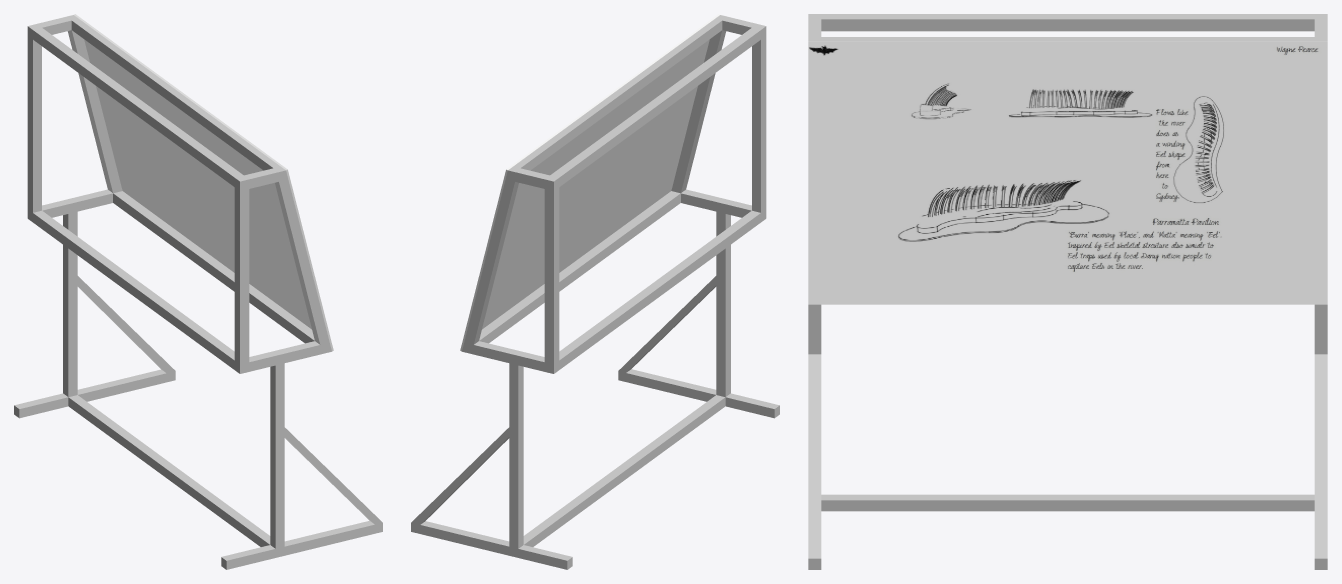
File: whiteboard_2.glb
3 views of the same model, side by side, from view 1: azimuth 30°, elevation 25°; view 2: azimuth 150°, elevation 25°; view 3: azimuth 270°, elevation 25° (orthographic). The views are drawn at different scales.
Visible parts, largest first — view 1: Material2 (×4); view 2: Material2 (×4); view 3: Material2 (×4).
Part boxes in pixels (x1,y1,x2,y2): Material2 (×4): (14, 14, 382, 569); Material2 (×4): (411, 14, 779, 569); Material2 (×4): (808, 14, 1327, 569).
Size of the model in its own units: 0.7801 by 1.84 by 1.84.
3 materials, 1 textured.
